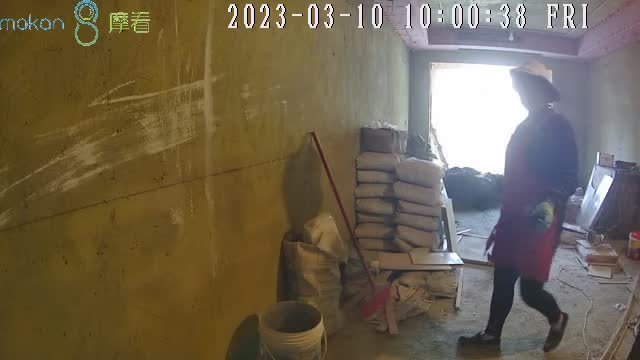people: (459, 61, 578, 353)
window: (428, 61, 553, 174)
